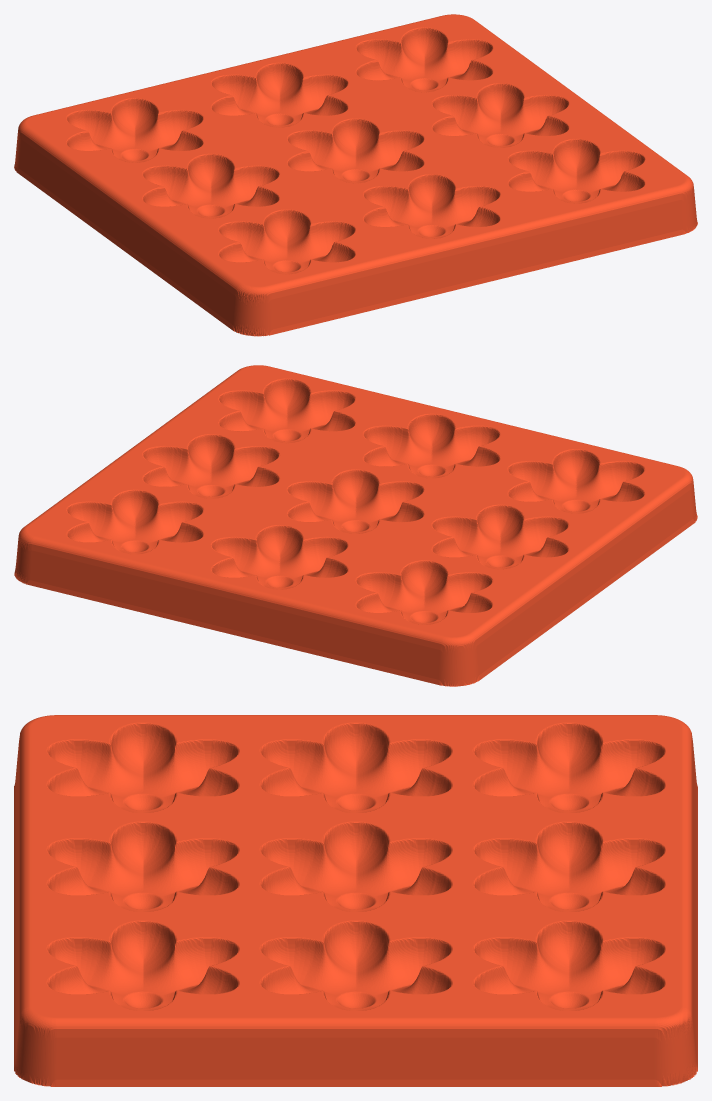
Rendered from mold.glb.
The picture shows the model from 3 angles, top to bottom: view 1: azimuth 30°, elevation 25°; view 2: azimuth 150°, elevation 25°; view 3: azimuth 270°, elevation 25°; orthographic projection. The views are drawn at different scales.
Parts seen in each view (by area): view 1: geometry_0; view 2: geometry_0; view 3: geometry_0.
Boxes of the visible parts, <box> form: geometry_0: <box>14,14,697,336</box>; geometry_0: <box>14,365,697,686</box>; geometry_0: <box>14,715,697,1086</box>.
Size of the model in its own units: 0.1579 by 0.0145 by 0.1445.
